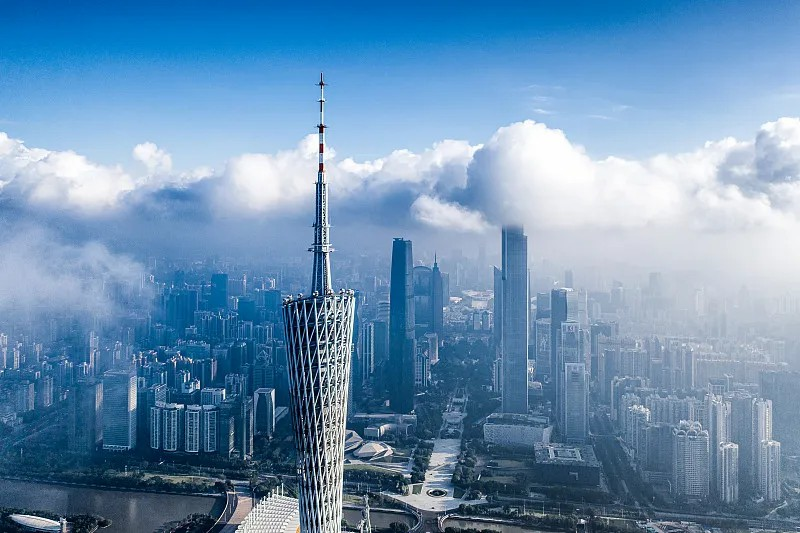Canton: (281, 71, 355, 532)
